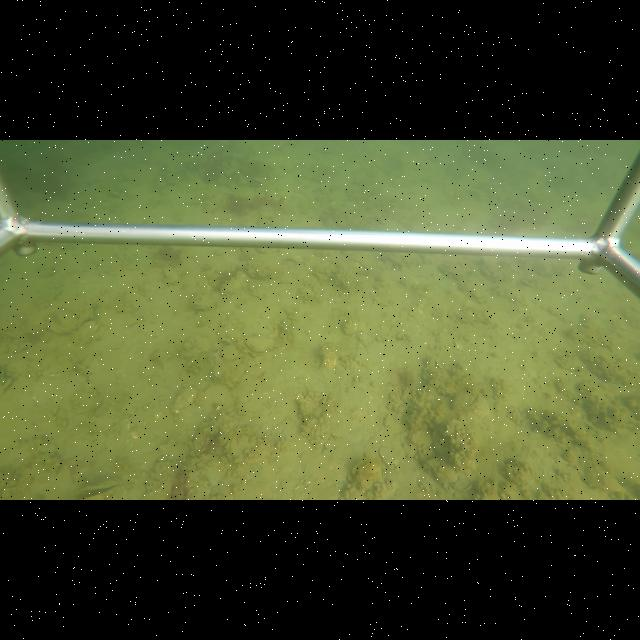Oyster-Open: (239, 334, 277, 358)
